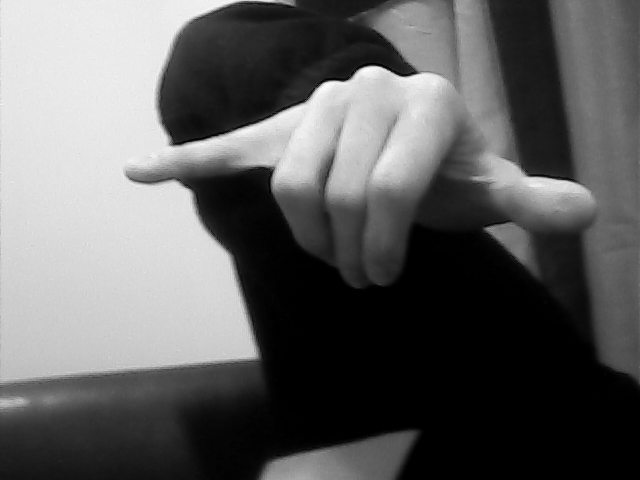aloha: (114, 62, 602, 298)
